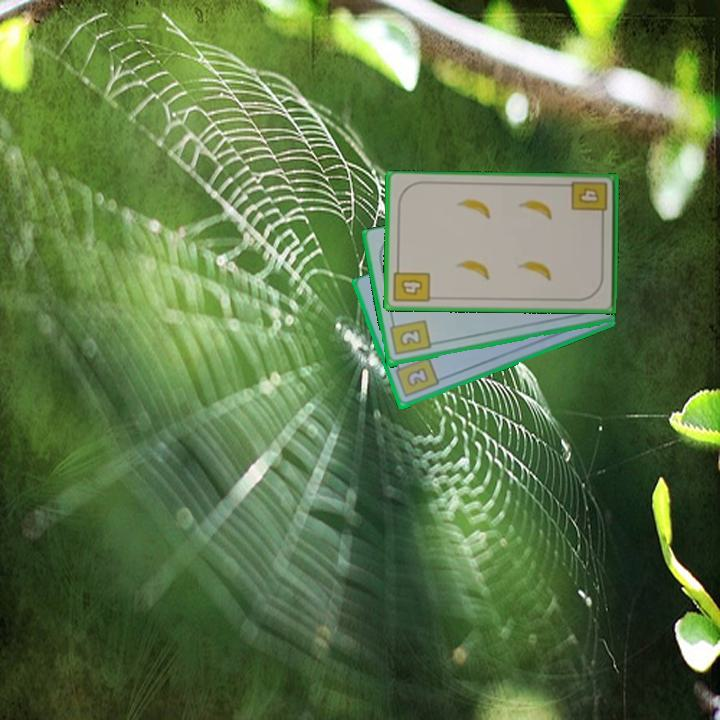2b: (391, 354, 441, 401), (386, 316, 433, 358)
4b: (390, 261, 433, 306), (568, 178, 611, 223)
